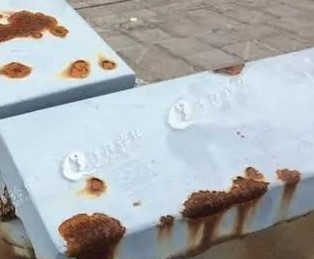Corrosion: (178, 166, 270, 259), (57, 212, 127, 259), (1, 9, 69, 43), (275, 168, 302, 221), (76, 175, 109, 198), (59, 59, 91, 79), (1, 61, 34, 79), (211, 62, 245, 76), (155, 214, 174, 239), (96, 54, 117, 71)
